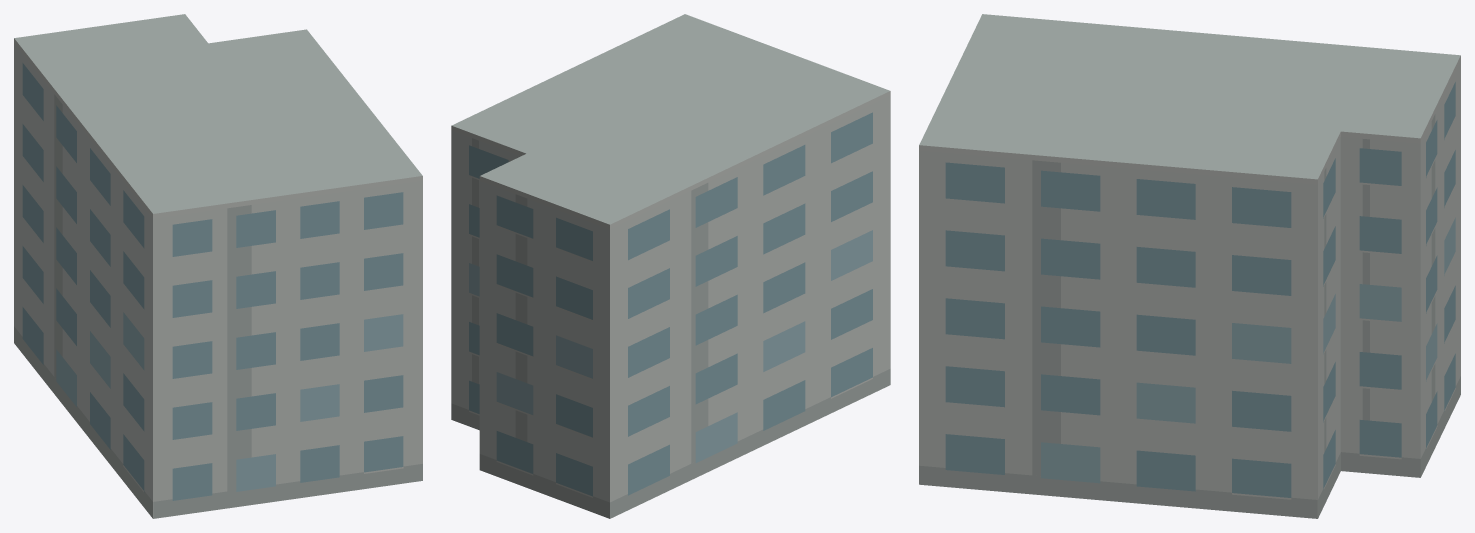
Rendered from residential-af930e3c-b828-4888-9a00-d05acf0c0470.glb.
3 views of the same model, side by side, from view 1: azimuth 30°, elevation 25°; view 2: azimuth 150°, elevation 25°; view 3: azimuth 270°, elevation 25° (orthographic). The views are drawn at different scales.
Parts seen in each view (by area): view 1: residential-af930e3c-b828-4888-9a00-d05acf0c0470.tmp; view 2: residential-af930e3c-b828-4888-9a00-d05acf0c0470.tmp; view 3: residential-af930e3c-b828-4888-9a00-d05acf0c0470.tmp.
Boxes of the visible parts, x1,y1,x2,y2 form: residential-af930e3c-b828-4888-9a00-d05acf0c0470.tmp: (14,14,422,518); residential-af930e3c-b828-4888-9a00-d05acf0c0470.tmp: (451,14,890,518); residential-af930e3c-b828-4888-9a00-d05acf0c0470.tmp: (919,14,1460,518).
Size of the model in its own units: 15.94 by 15.25 by 22.06.
